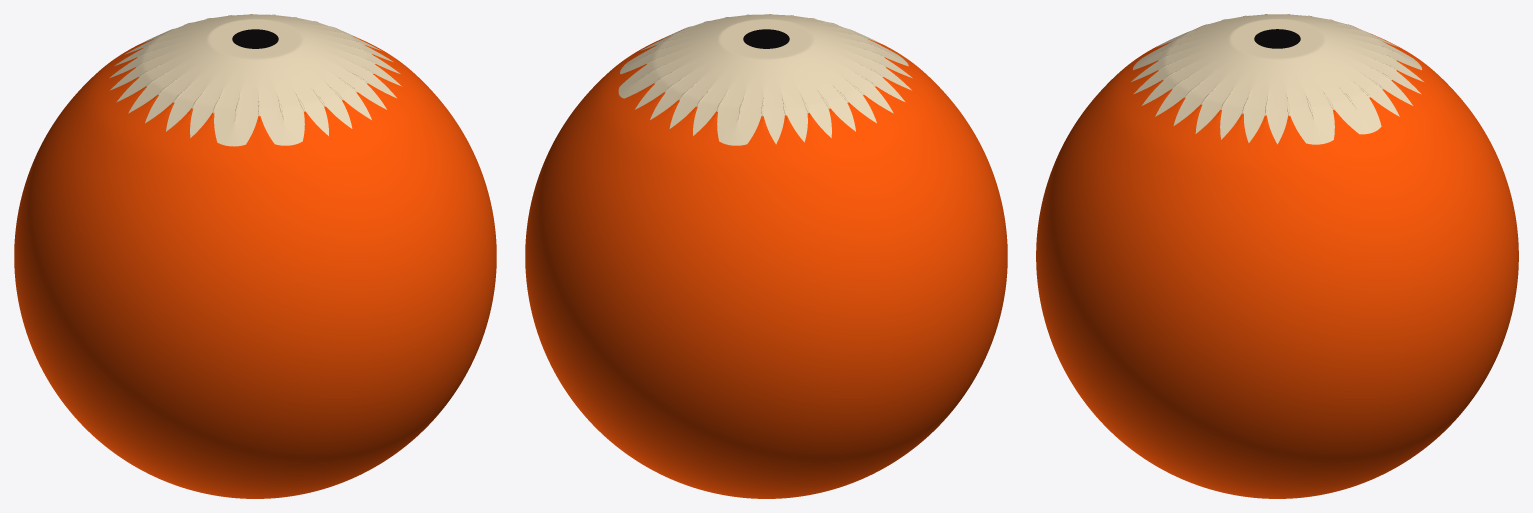
File: TheGreatEye2Ira.fbx
The picture shows the model from 3 angles, left to right: view 1: azimuth 30°, elevation 25°; view 2: azimuth 150°, elevation 25°; view 3: azimuth 270°, elevation 25°; orthographic projection.
Parts seen in each view (by area): view 1: Sphere; view 2: Sphere; view 3: Sphere.
Part boxes in pixels (<box>): Sphere: <box>14,14,496,498</box>; Sphere: <box>525,14,1007,498</box>; Sphere: <box>1036,14,1518,498</box>.
Bounding box in the file's own units: 197 × 198 × 197.
